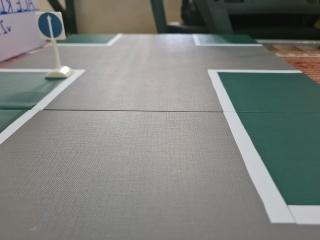straight: (35, 6, 67, 44)
